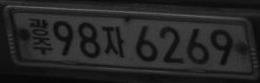2: (159, 25, 184, 64)
6: (134, 24, 159, 62), (185, 27, 210, 65)
8: (76, 20, 101, 58)
9: (210, 27, 233, 65), (53, 19, 75, 57)
광주_V: (25, 16, 53, 55)
자: (101, 25, 126, 58)
